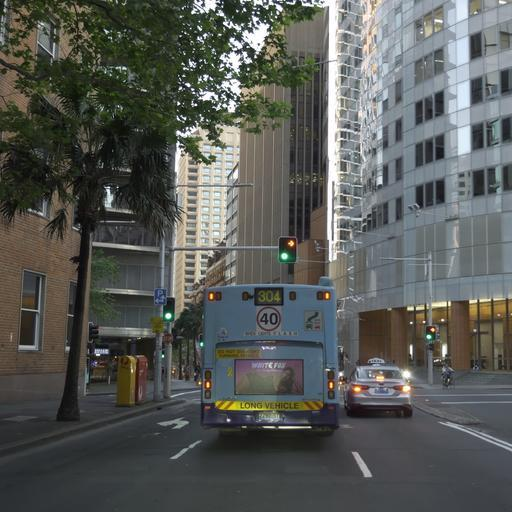Street light: (156, 180, 254, 401), (379, 253, 435, 384), (277, 235, 297, 263), (162, 296, 174, 321)
